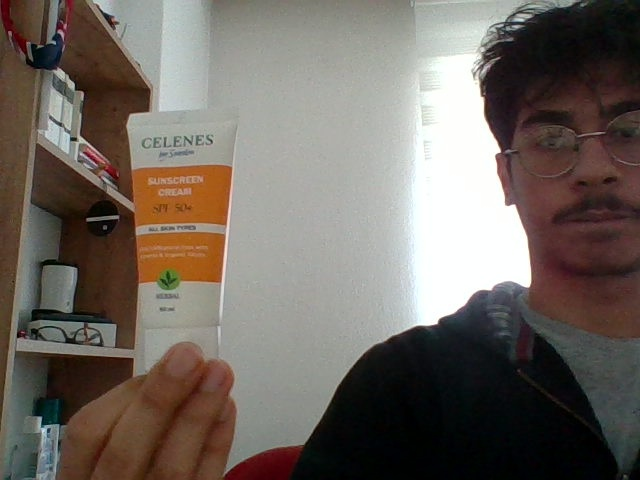CelenesSunCream: (124, 108, 240, 325)
